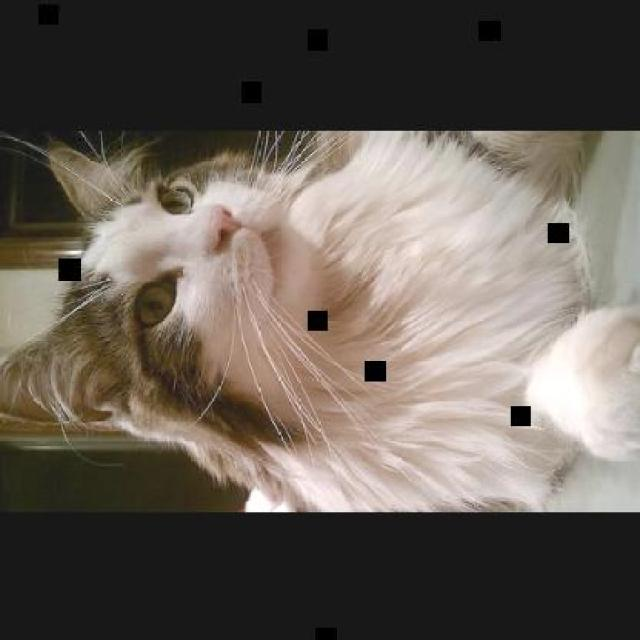unauthorized: (0, 126, 638, 512)
